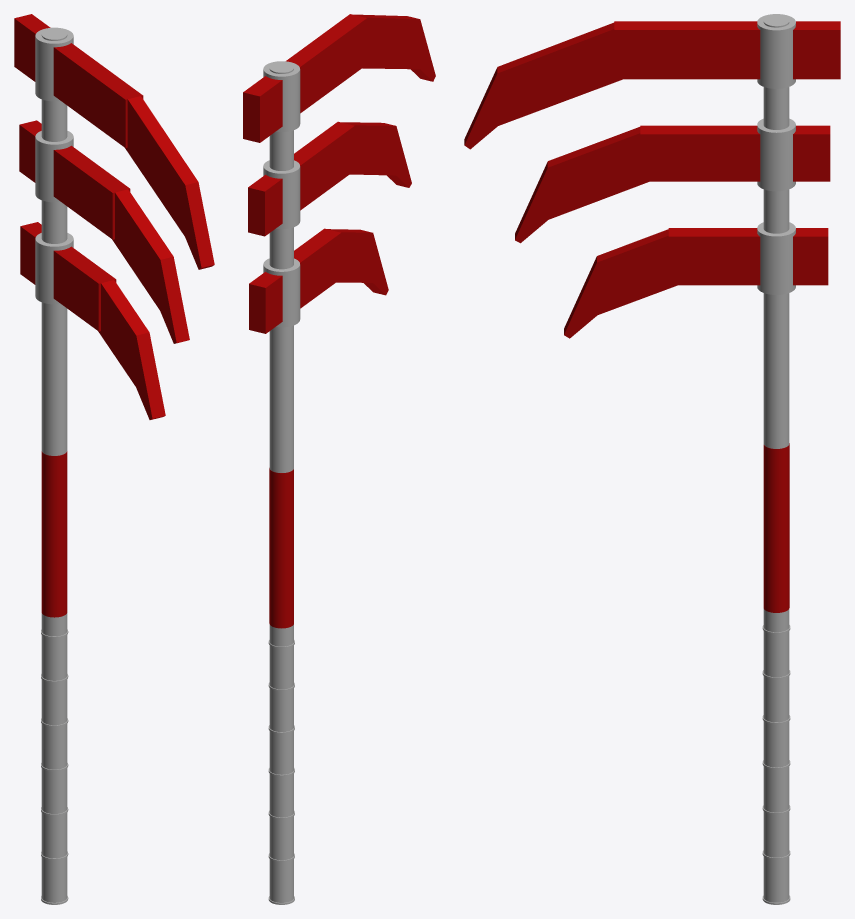
3 renders of one model, left to right at view 1: azimuth 30°, elevation 25°; view 2: azimuth 150°, elevation 25°; view 3: azimuth 270°, elevation 25°, orthographic. The views are drawn at different scales.
Visible parts, largest first — view 1: silver_shaft, blade, blade.001, blade.002, red_shaft, mount, mount.001, mount.002; view 2: silver_shaft, blade, blade.001, blade.002, red_shaft, mount, mount.001, mount.002; view 3: blade, blade.001, silver_shaft, blade.002, red_shaft, mount, mount.001, mount.002.
Part boxes in pixels (<box>): silver_shaft: <box>41,29,67,902</box>; blade: <box>14,14,214,269</box>; blade.001: <box>19,120,189,343</box>; blade.002: <box>20,222,165,419</box>; red_shaft: <box>41,451,67,617</box>; mount: <box>35,27,73,101</box>; mount.001: <box>35,131,73,202</box>; mount.002: <box>35,233,73,304</box>; silver_shaft: <box>269,62,293,902</box>; blade: <box>243,14,435,142</box>; blade.001: <box>248,121,411,236</box>; blade.002: <box>249,228,388,333</box>; red_shaft: <box>269,468,293,628</box>; mount: <box>263,61,300,131</box>; mount.001: <box>263,160,300,229</box>; mount.002: <box>263,258,300,327</box>; blade: <box>464,21,840,149</box>; blade.001: <box>515,125,830,243</box>; silver_shaft: <box>763,15,789,902</box>; blade.002: <box>564,228,828,338</box>; red_shaft: <box>763,443,789,612</box>; mount: <box>757,14,795,88</box>; mount.001: <box>757,118,795,191</box>; mount.002: <box>757,222,795,294</box>.
Size of the model in its own units: 0.06 by 1.5 by 0.582.
